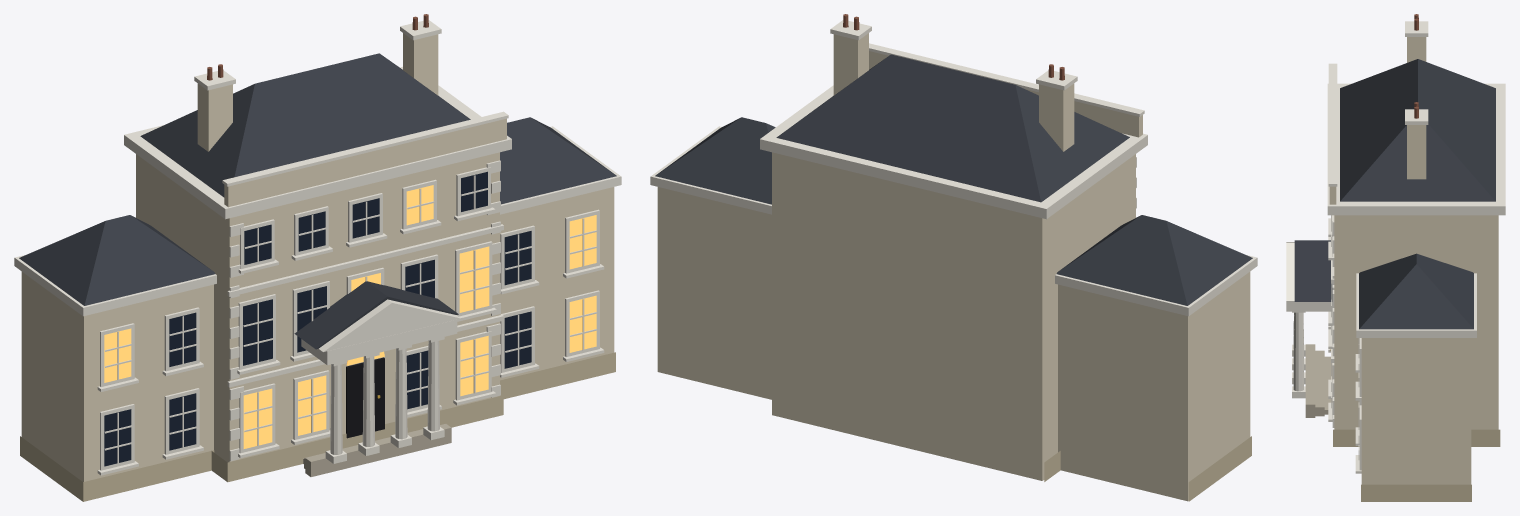
The model's file is mansion_georgian.glb.
The picture shows the model from 3 angles, left to right: view 1: azimuth 30°, elevation 25°; view 2: azimuth 150°, elevation 25°; view 3: azimuth 270°, elevation 25°; orthographic projection. The views are drawn at different scales.
Parts seen in each view (by area): view 1: mansion_georgian; view 2: mansion_georgian; view 3: mansion_georgian.
Boxes of the visible parts, x1,y1,x2,y2 form: mansion_georgian: [14, 14, 621, 501]; mansion_georgian: [650, 14, 1257, 501]; mansion_georgian: [1286, 14, 1505, 501].
Bounding box in the file's own units: 19.9 × 13.15 × 8.
